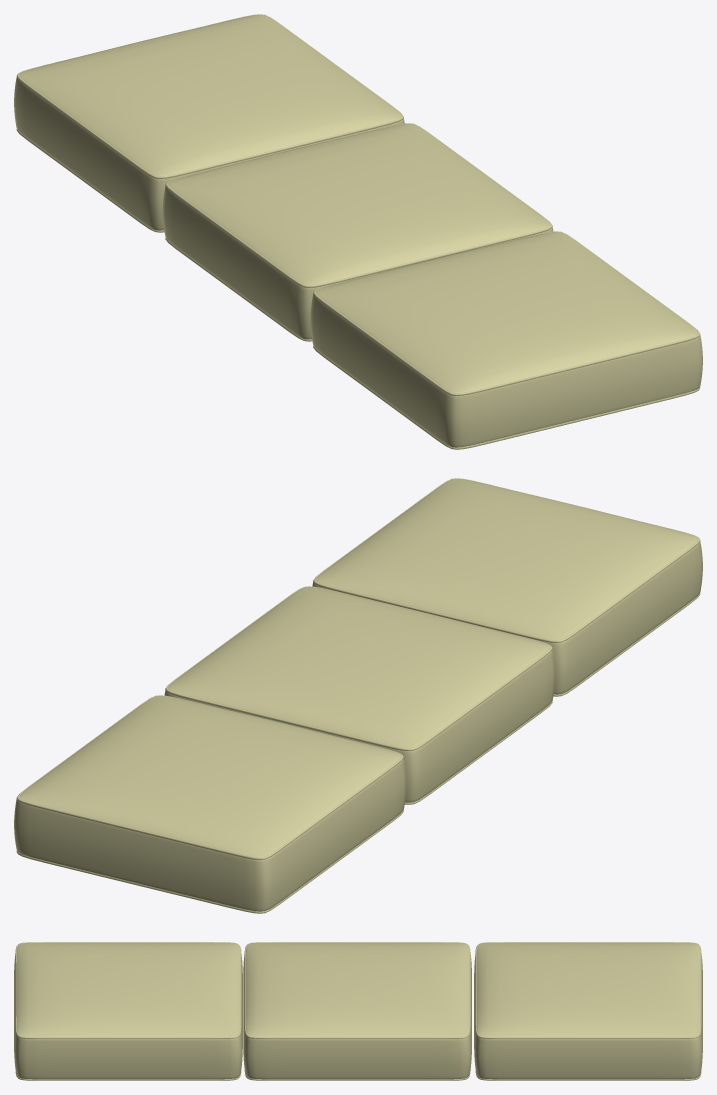
Rendered from sofaCushionSeatTriple.glb.
3 views of the same model, one above another, from view 1: azimuth 30°, elevation 25°; view 2: azimuth 150°, elevation 25°; view 3: azimuth 270°, elevation 25° (orthographic). The views are drawn at different scales.
Parts seen in each view (by area): view 1: cushion, welting; view 2: cushion, welting; view 3: cushion, welting.
Part boxes in pixels (x1=…): cushion: x1=14, y1=15, x2=702, y2=447; welting: x1=16, y1=14, x2=700, y2=449; cushion: x1=14, y1=479, x2=702, y2=911; welting: x1=16, y1=478, x2=700, y2=913; cushion: x1=14, y1=942, x2=702, y2=1079; welting: x1=15, y1=942, x2=701, y2=1080.
Size of the model in its own units: 1.31 by 0.3357 by 3.94.
